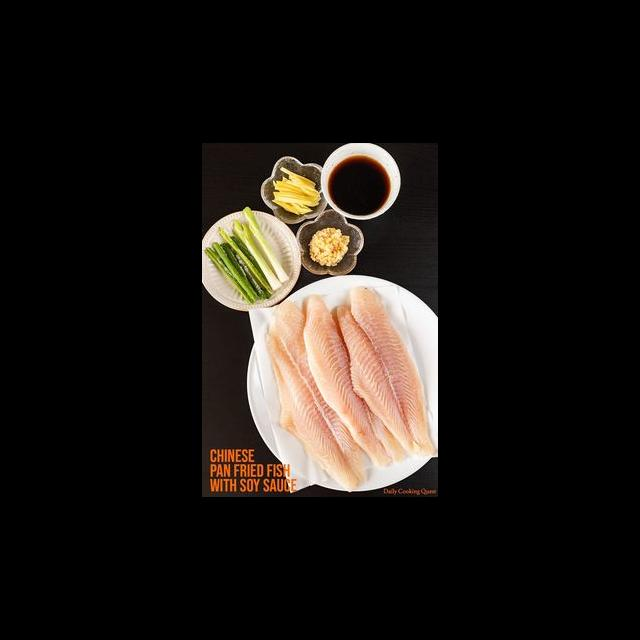fish: (324, 283, 438, 462)
